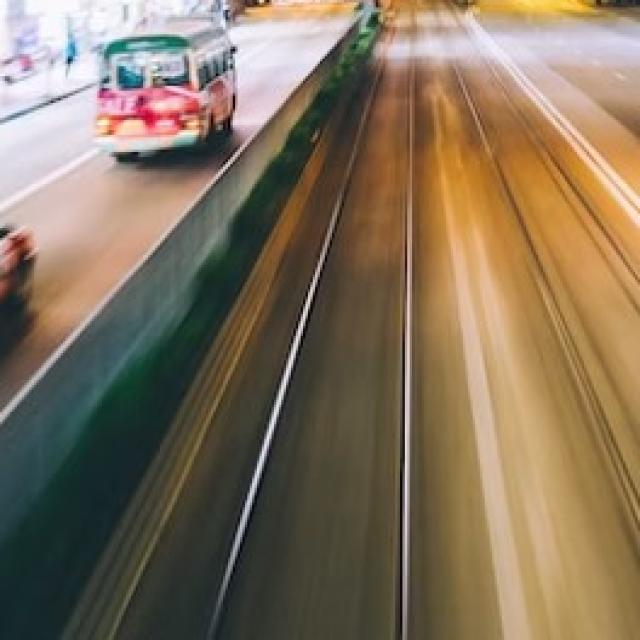bus: (95, 12, 242, 174)
car: (0, 191, 36, 397)
